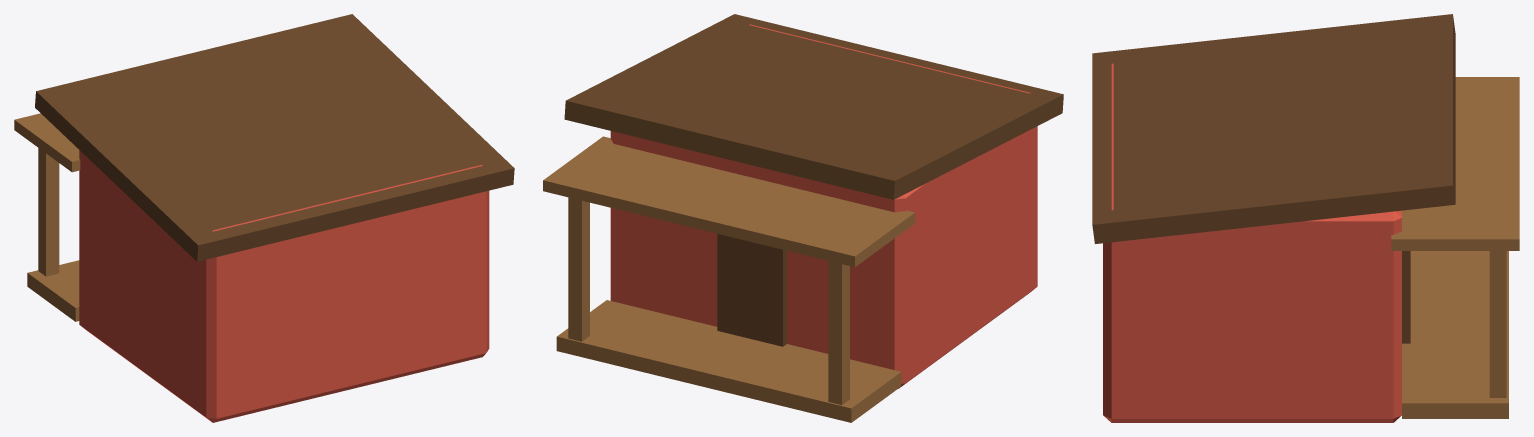
Rendered from house_wood.glb.
The picture shows the model from 3 angles, left to right: view 1: azimuth 30°, elevation 25°; view 2: azimuth 150°, elevation 25°; view 3: azimuth 270°, elevation 25°; orthographic projection. The views are drawn at different scales.
Parts seen in each view (by area): view 1: house_wood; view 2: house_wood; view 3: house_wood.
Part boxes in pixels (<box>): house_wood: <box>14,14,514,422</box>; house_wood: <box>543,14,1063,422</box>; house_wood: <box>1092,14,1519,422</box>.
Size of the model in its own units: 1.9 by 1.29 by 2.
Materials: 1 (1 with a texture image).
